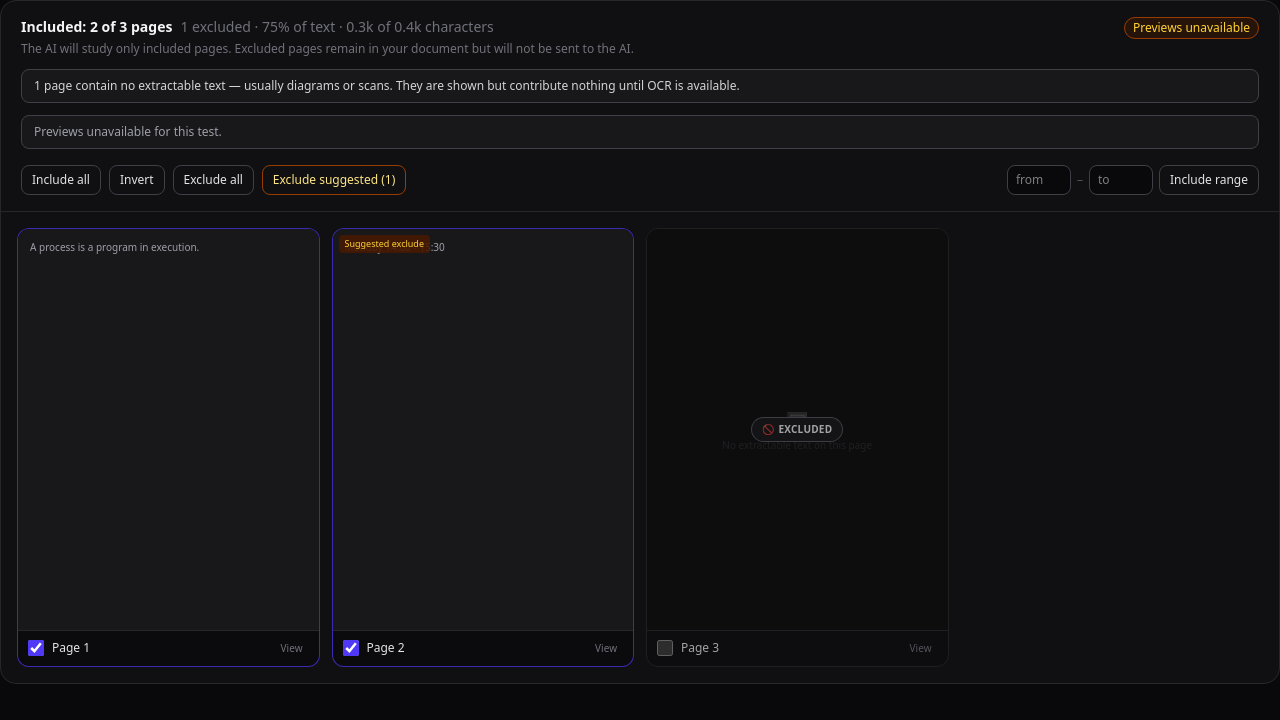
PageSelector interaction › rejects a zero-page selection with the server's explanation
The image size is (1280, 720).
Expected: the checkbox named "Page 1, included" is shown, 28,640 -> 44,656
Step 1. Click the button "Exclude all" → point(213, 180), box 173,165 -> 254,195
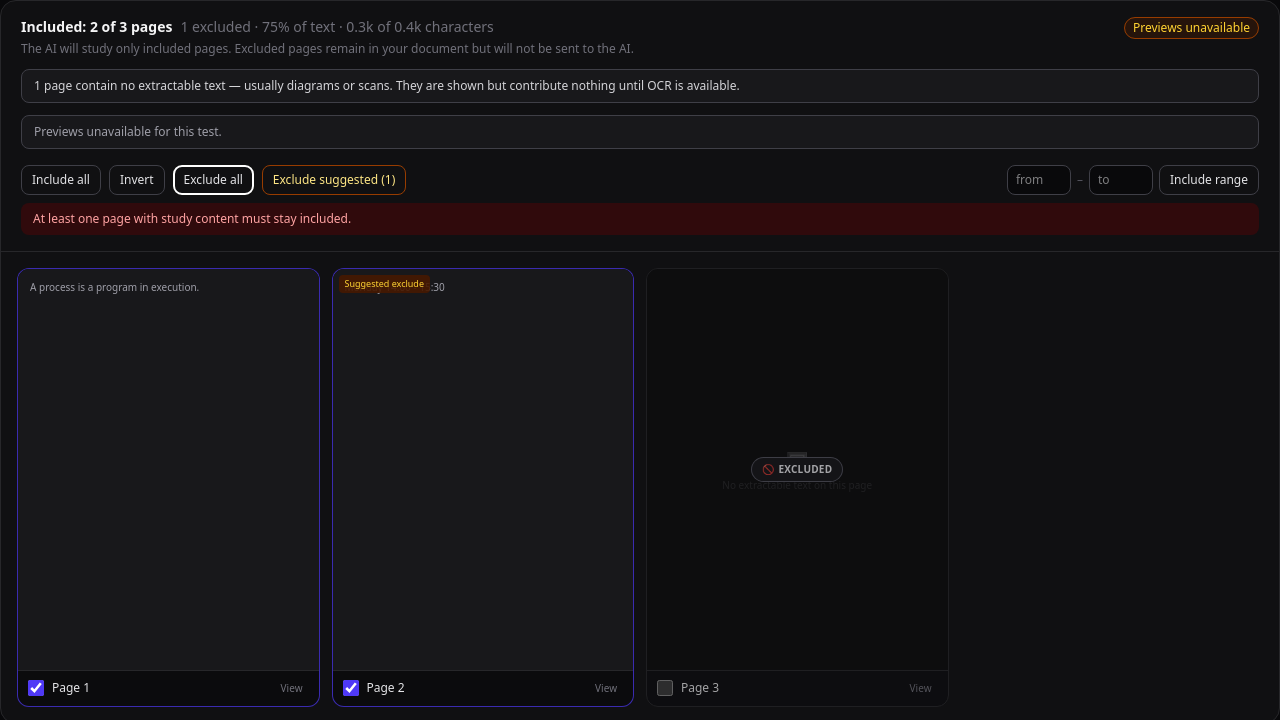
Now the message shows "At least one page", box 33,210 -> 351,227
